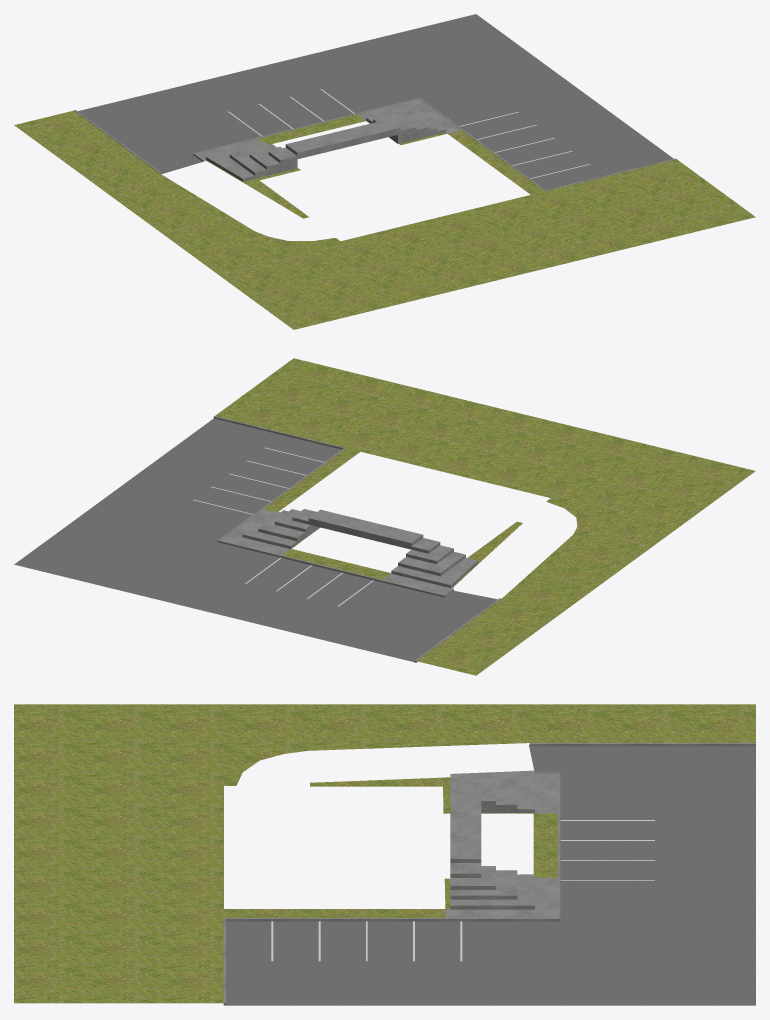
File: Maapind_Parkla.glb
3 views of the same model, one above another, from view 1: azimuth 30°, elevation 25°; view 2: azimuth 150°, elevation 25°; view 3: azimuth 270°, elevation 25° (orthographic). The views are drawn at different scales.
Visible parts, largest first — view 1: Plane001, Object001, Box097, Box053, Box076, Box075, Object002; view 2: Plane001, Object001, Box097, Box053, Box075, Box076, Object002; view 3: Plane001, Object001, Box076, Box075, Box097, Box053, Object002.
Boxes of the visible parts, <box> form: Plane001: <box>14,110,755,329</box>; Object001: <box>78,14,673,189</box>; Box097: <box>268,118,416,163</box>; Box053: <box>206,142,297,181</box>; Box076: <box>366,106,446,143</box>; Box075: <box>74,98,676,191</box>; Object002: <box>196,99,461,161</box>; Plane001: <box>215,358,755,675</box>; Object001: <box>14,418,497,662</box>; Box097: <box>292,509,440,553</box>; Box053: <box>391,545,477,587</box>; Box075: <box>213,416,501,662</box>; Box076: <box>242,509,319,548</box>; Object002: <box>221,509,453,594</box>; Plane001: <box>14,704,755,1003</box>; Object001: <box>226,745,755,1005</box>; Box076: <box>450,866,534,909</box>; Box075: <box>223,743,755,1005</box>; Box097: <box>450,785,481,877</box>; Box053: <box>450,770,534,813</box>; Object002: <box>445,773,557,917</box>.
Bounding box in the file's own units: 37.45 × 1.34 × 39.26.
Materials: 4 (3 with a texture image).
